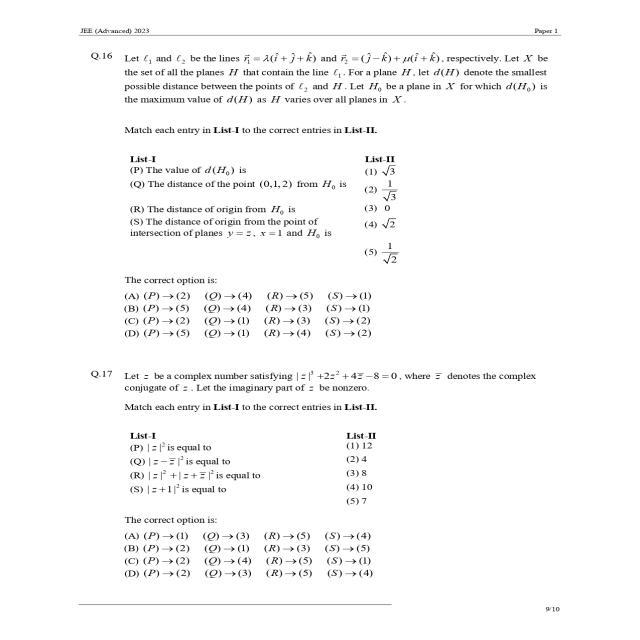Question_Answer_Block: (43, 45, 560, 348), (43, 354, 560, 590)
Question_Block: (43, 45, 560, 349), (43, 354, 560, 590)
Question_Paper_Area: (43, 45, 560, 590)
